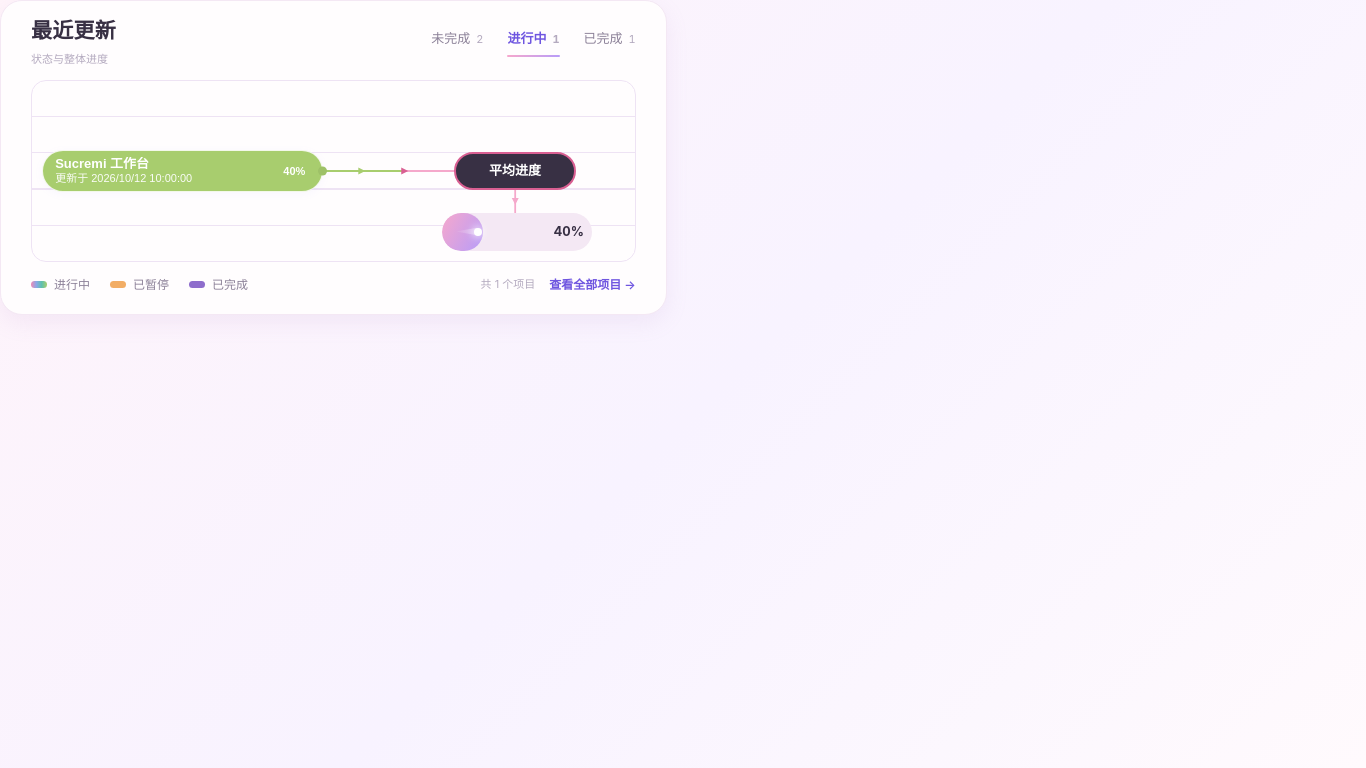
ProjectFlowCard › filters unfinished projects and shows their average progress
The width and height of the screenshot is (1366, 768).
Click the tab "未完成 2". click: click(457, 41)
box: [431,25,484,58]
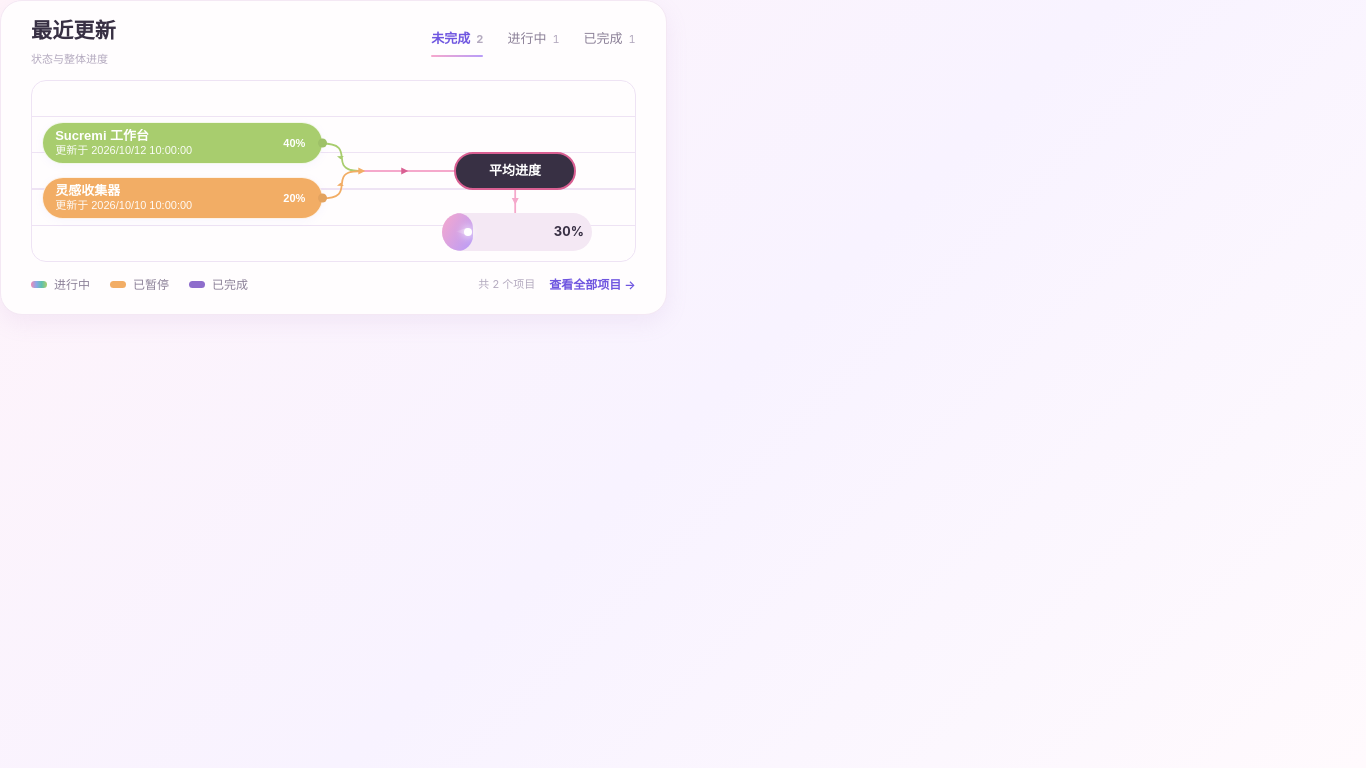
Expected: the text "Sucremi 工作台" is shown, [55,129,149,144]
Expected: the text "灵感收集器" is shown, [55,184,120,199]
